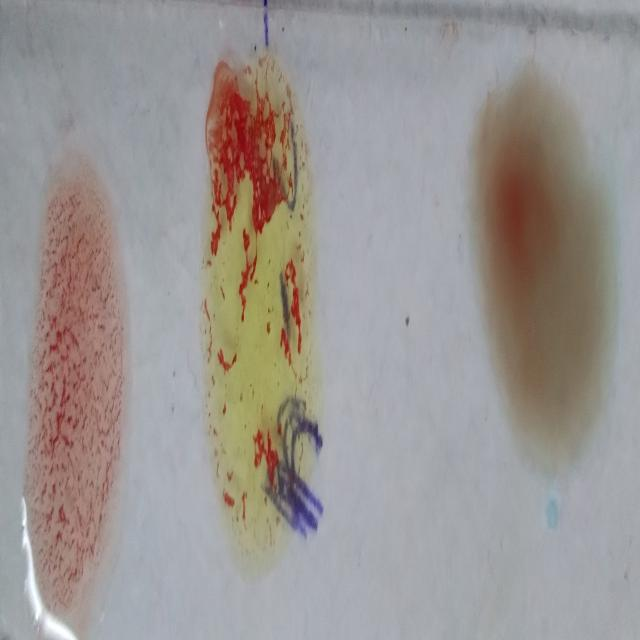B: (206, 47, 304, 550)
D: (32, 174, 118, 595)
